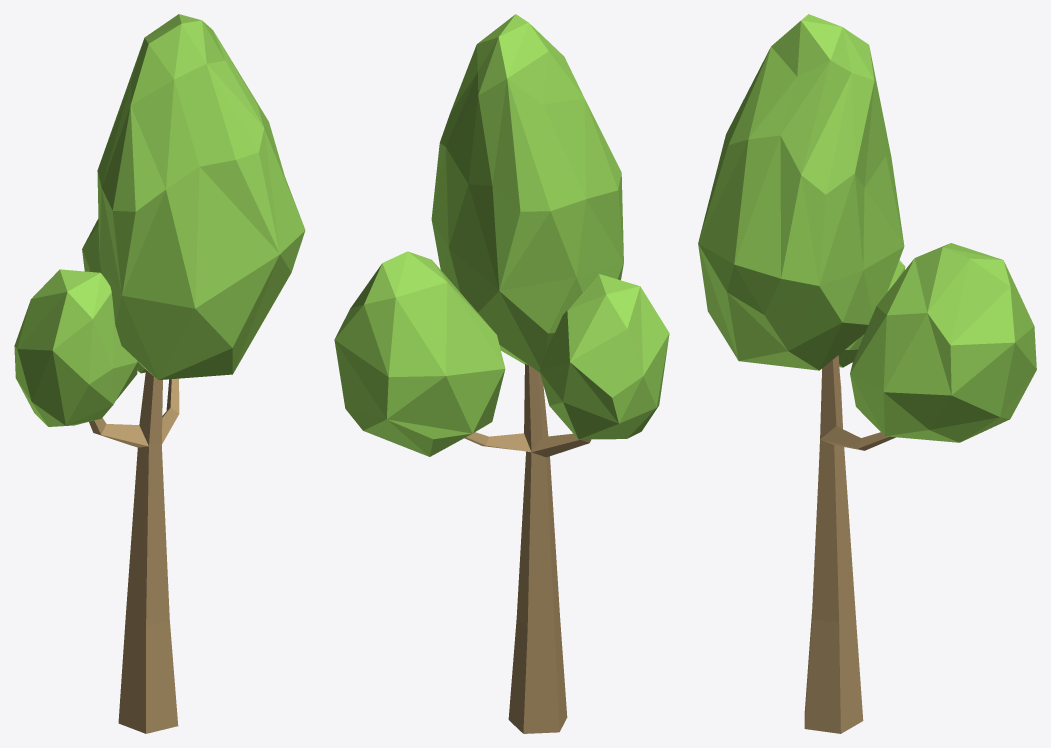
Rendered from Random_Tree_m_06.fbx.
3 renders of one model, left to right at view 1: azimuth 30°, elevation 25°; view 2: azimuth 150°, elevation 25°; view 3: azimuth 270°, elevation 25°, orthographic. The views are drawn at different scales.
Parts seen in each view (by area): view 1: Random_Tree_m_06; view 2: Random_Tree_m_06; view 3: Random_Tree_m_06.
Part boxes in pixels (x1,y1,x2,y2): Random_Tree_m_06: (14, 14, 305, 733); Random_Tree_m_06: (334, 14, 669, 733); Random_Tree_m_06: (698, 14, 1036, 733).
Bounding box in the file's own units: 340 × 883 × 377.
